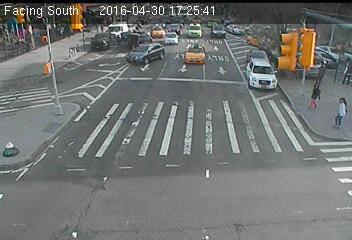neg: (187, 151, 223, 199), (179, 41, 212, 85), (234, 49, 267, 93), (281, 29, 310, 68), (89, 32, 114, 66), (276, 151, 301, 183), (124, 114, 146, 144), (132, 37, 154, 66), (5, 133, 24, 158), (16, 30, 34, 54), (49, 53, 63, 72)
pos: (324, 94, 349, 127), (306, 80, 328, 110), (316, 61, 333, 83)
